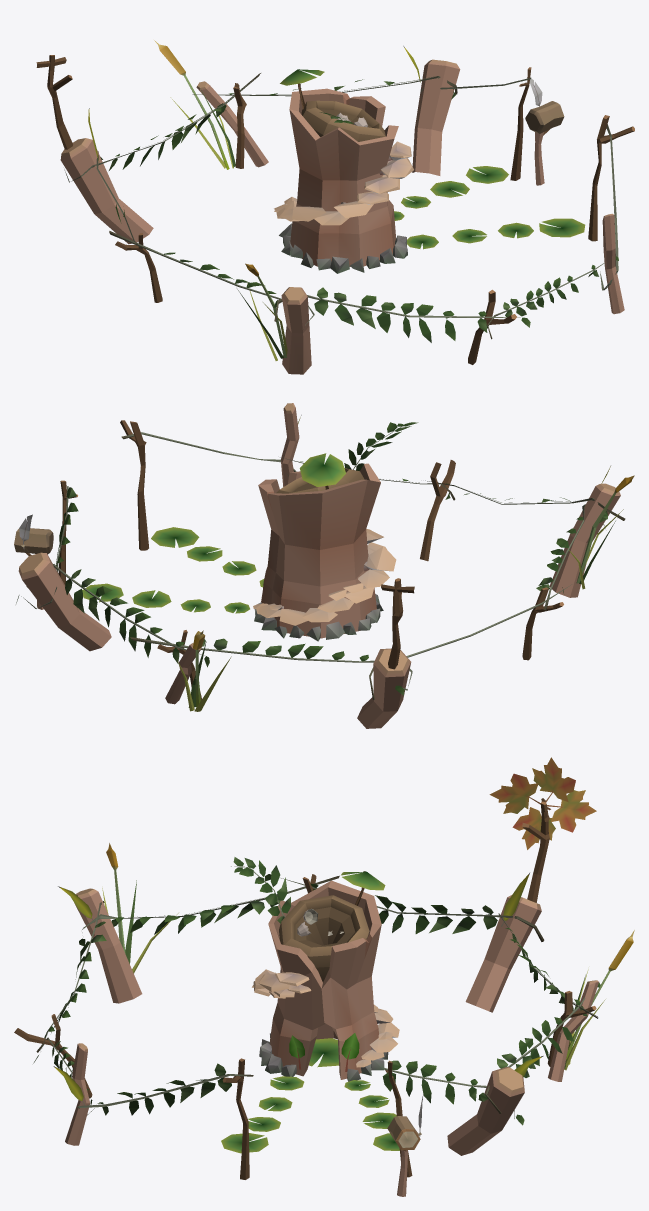
3 renders of one model, top to bottom at view 1: azimuth 30°, elevation 25°; view 2: azimuth 150°, elevation 25°; view 3: azimuth 270°, elevation 25°, orthographic. The views are drawn at different scales.
Parts seen in each view (by area): view 1: nestStage_11; view 2: nestStage_11; view 3: nestStage_11, nestStageWindmill_11.
Boxes of the visible parts, box(x1,y1,x2,y2) form: nestStage_11: box(47, 40, 634, 374); nestStage_11: box(14, 403, 634, 728); nestStage_11: box(14, 801, 634, 1196); nestStageWindmill_11: box(489, 757, 596, 849).
Bounding box in the file's own units: 6.39 × 2.92 × 6.87.
